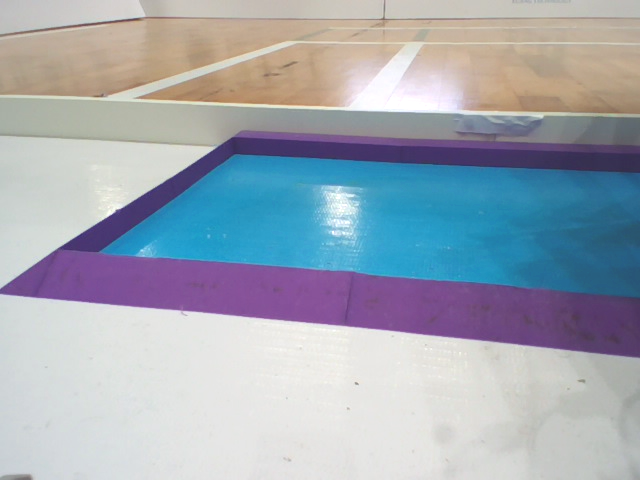kuang: (6, 105, 640, 363)
